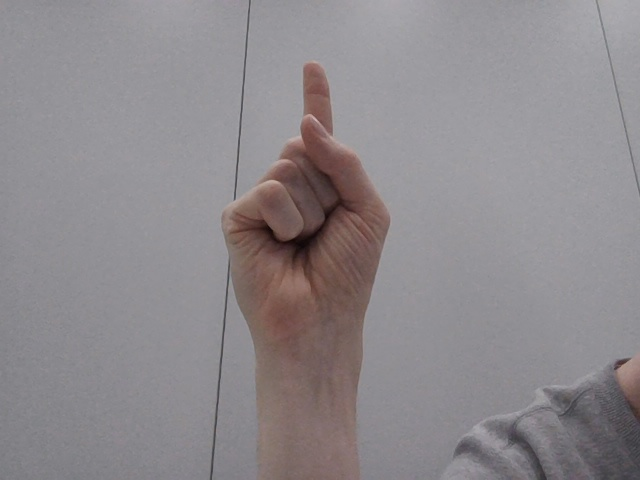up: (207, 52, 386, 384)
